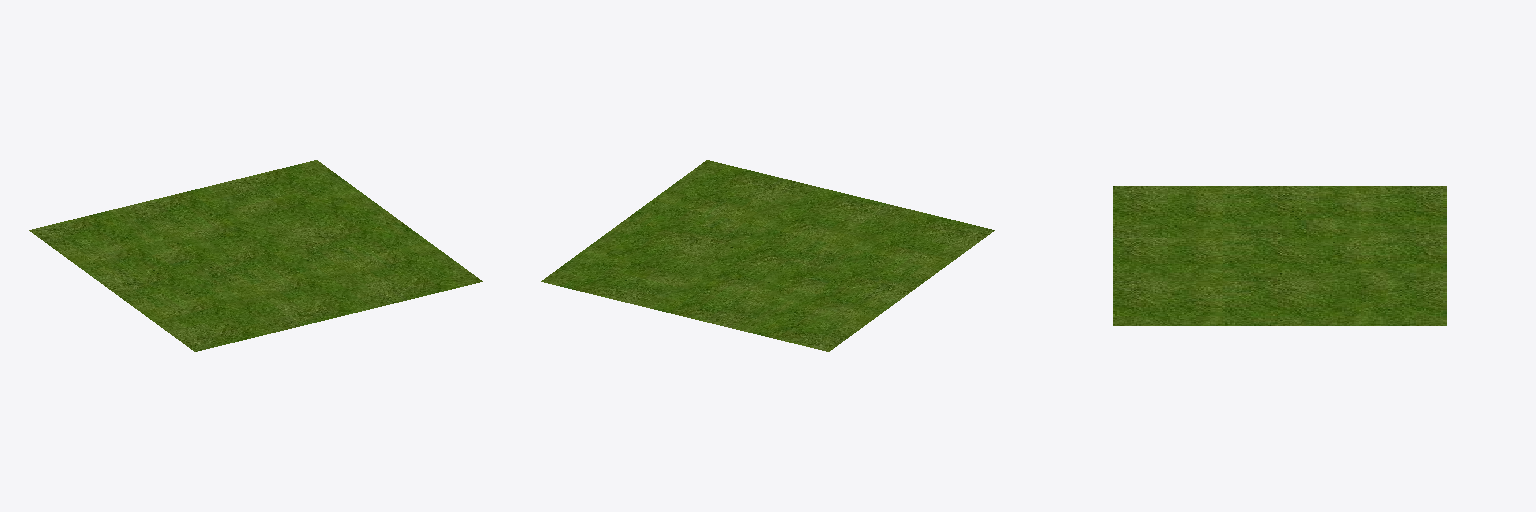
3 renders of one model, left to right at view 1: azimuth 30°, elevation 25°; view 2: azimuth 150°, elevation 25°; view 3: azimuth 270°, elevation 25°, orthographic.
Parts seen in each view (by area): view 1: plane; view 2: plane; view 3: plane.
Part boxes in pixels (x1,y1,x2,y2): plane: (29,160,482,351); plane: (541,160,994,351); plane: (1113,186,1446,325).
Bounding box in the file's own units: 1 × 0 × 1.
1 materials, 1 textured.